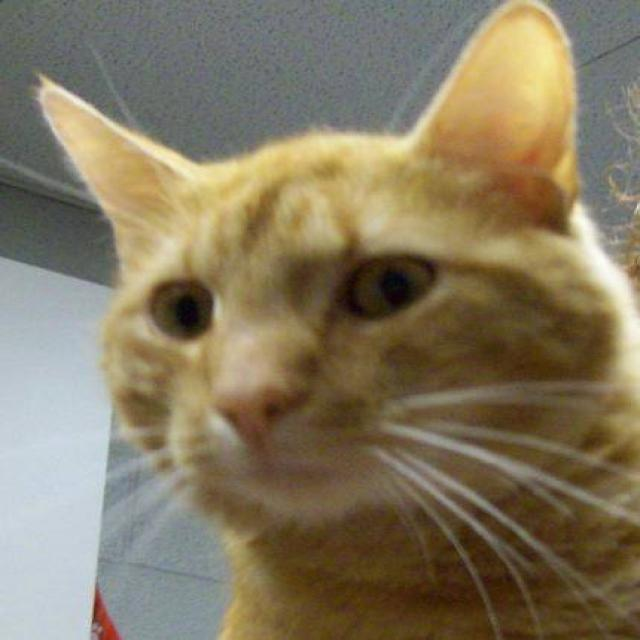cat: (30, 0, 638, 639)
